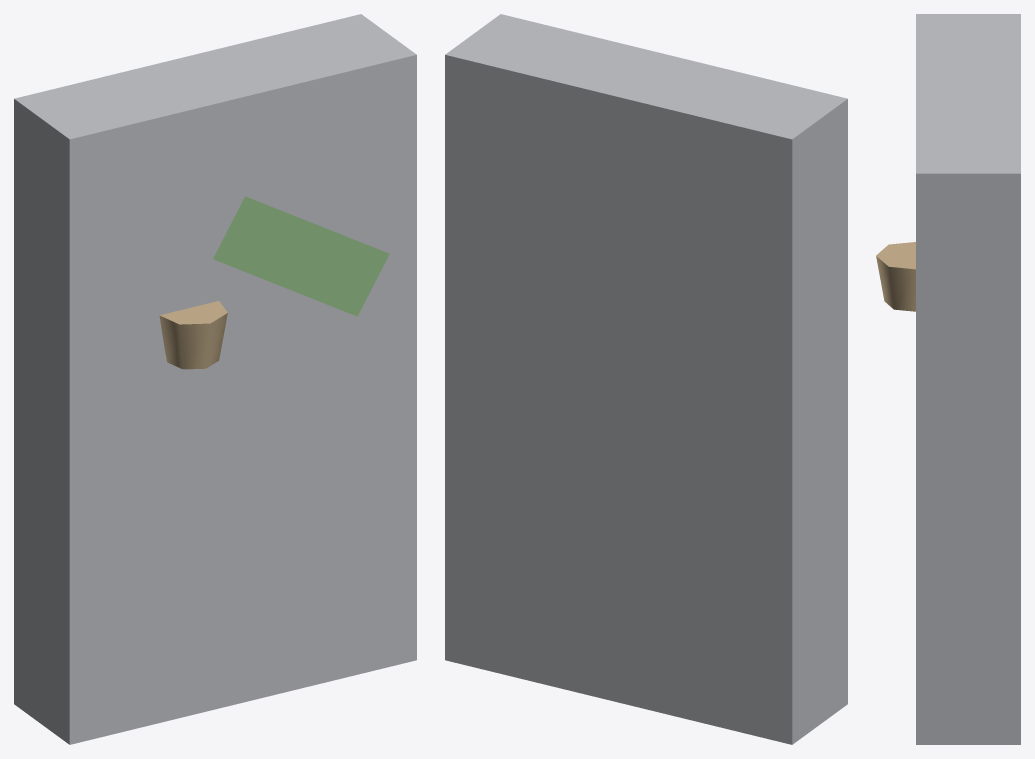
The model's file is wonder-stone-seed.gltf.
3 views of the same model, side by side, from view 1: azimuth 30°, elevation 25°; view 2: azimuth 150°, elevation 25°; view 3: azimuth 270°, elevation 25° (orthographic). The views are drawn at different scales.
Visible parts, largest first — view 1: Stone, EmblemWing, EmblemSeed; view 2: Stone; view 3: Stone, EmblemSeed.
Boxes of the visible parts, x1,y1,x2,y2 form: Stone: (14, 14, 416, 744); EmblemWing: (213, 196, 389, 316); EmblemSeed: (159, 301, 227, 369); Stone: (445, 14, 847, 744); Stone: (916, 14, 1020, 744); EmblemSeed: (876, 242, 915, 311).
Bounding box in the file's own units: 0.9 × 1.5 × 0.345.
